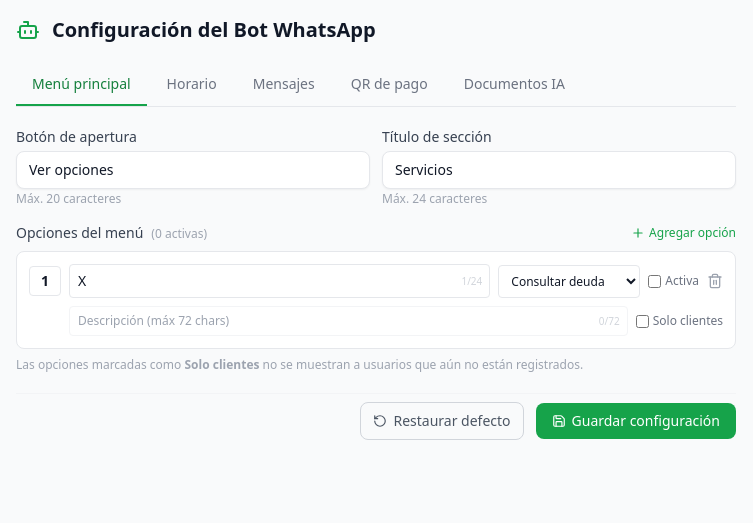
Scenario: BotConfigPage — TC-FE-BOT-01 a TC-FE-BOT-08 (red de seguridad refactor C3) › TC-FE-BOT-03 — valida que haya al menos una opción activa antes de guardar
Expected: the heading "Configuración del Bot WhatsApp" is shown, [52,16,376,44]
Click the button "Guardar configuración". click: [636, 421]
box: [536,403,736,439]
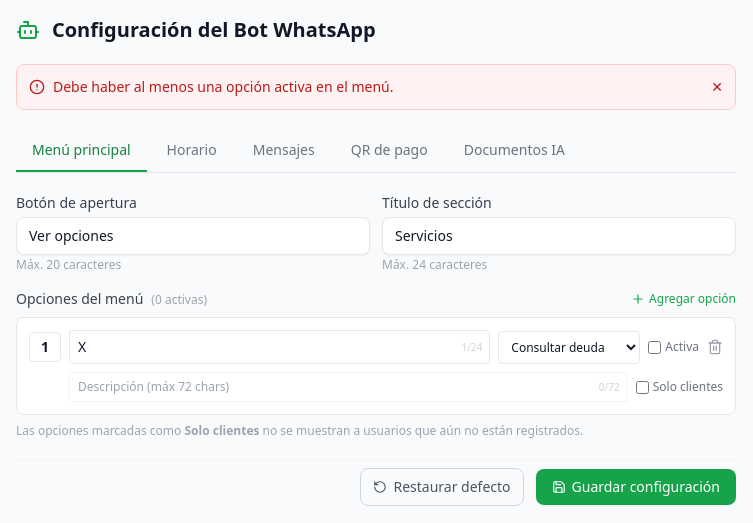
Expected: the text "Debe haber al menos una opción activa en el menú." is shown, [53,77,394,96]
